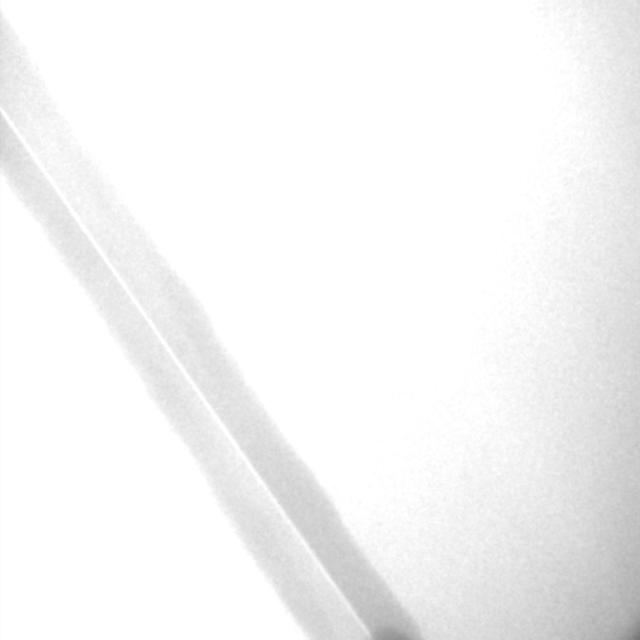broken arc: (2, 110, 372, 637)
